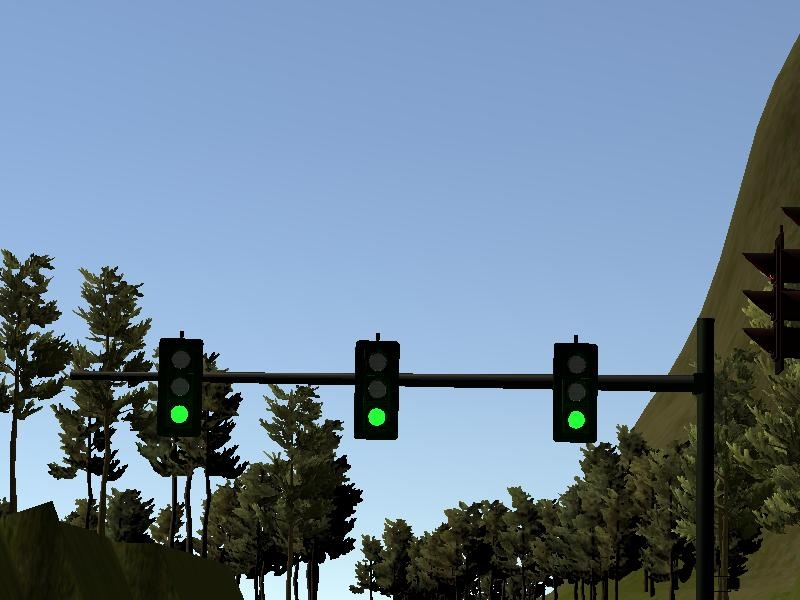green: (156, 335, 200, 440), (355, 337, 399, 442), (553, 339, 597, 444)
